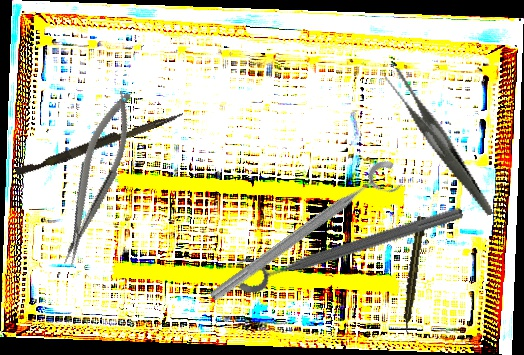Dressing Forceps: (382, 53, 494, 233)
Fixation Ring: (204, 155, 409, 317), (229, 188, 467, 298)
Handpiece: (399, 215, 428, 335)
Needle Holder: (44, 85, 147, 271)
Pusher: (14, 105, 185, 181)
